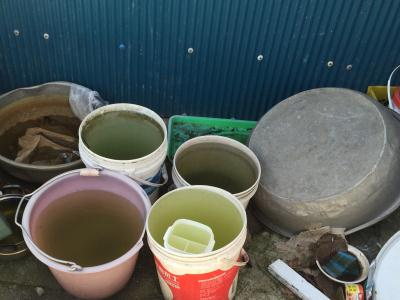bowl: (244, 84, 400, 243), (1, 81, 109, 188)
box: (163, 217, 215, 255)
bucket: (14, 167, 150, 298), (141, 183, 250, 299), (75, 100, 169, 201)
plate: (313, 240, 374, 286)
